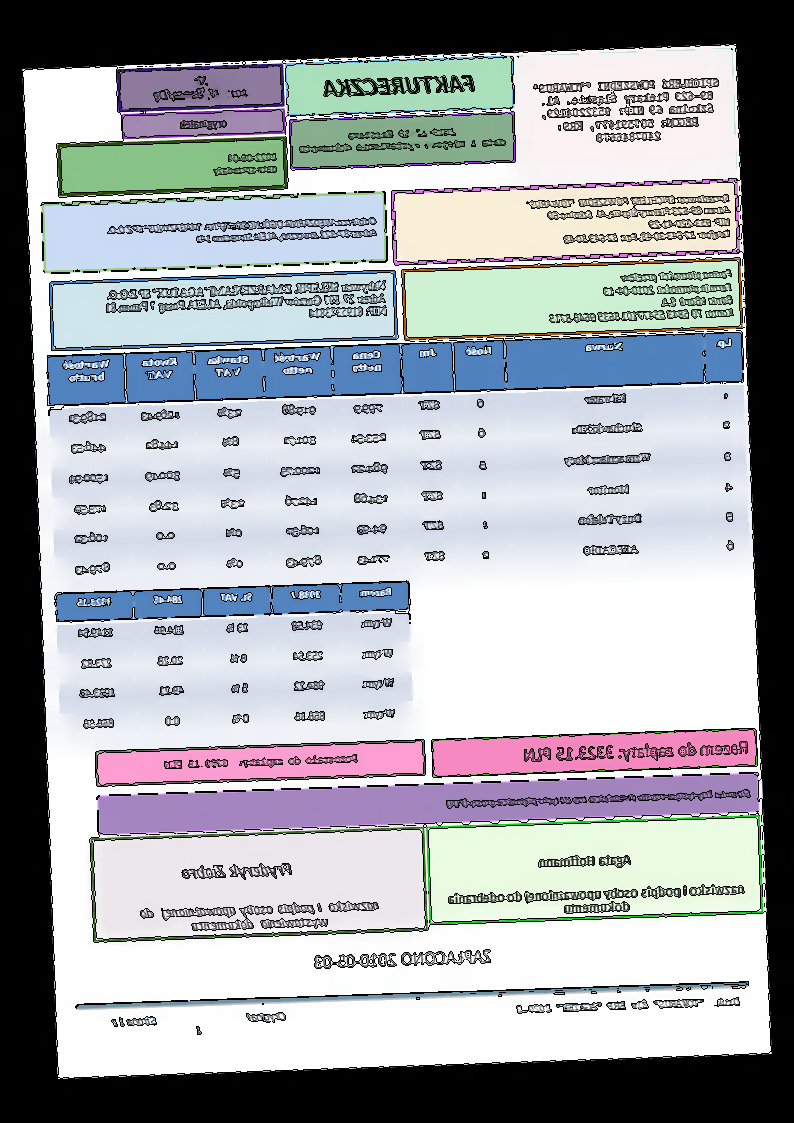Table: (48, 331, 751, 589), (54, 579, 416, 745)
TextBox: (102, 278, 388, 327), (532, 76, 723, 146), (523, 192, 733, 248), (447, 880, 746, 919), (546, 266, 736, 326), (105, 213, 380, 248), (139, 898, 381, 935), (445, 786, 753, 812), (297, 122, 509, 155), (523, 739, 750, 766), (109, 1011, 287, 1038), (312, 947, 493, 971), (516, 996, 741, 1015), (163, 752, 359, 773), (322, 73, 476, 99), (150, 73, 250, 104), (180, 859, 295, 884), (212, 151, 279, 178), (538, 853, 633, 871), (178, 116, 229, 133)
